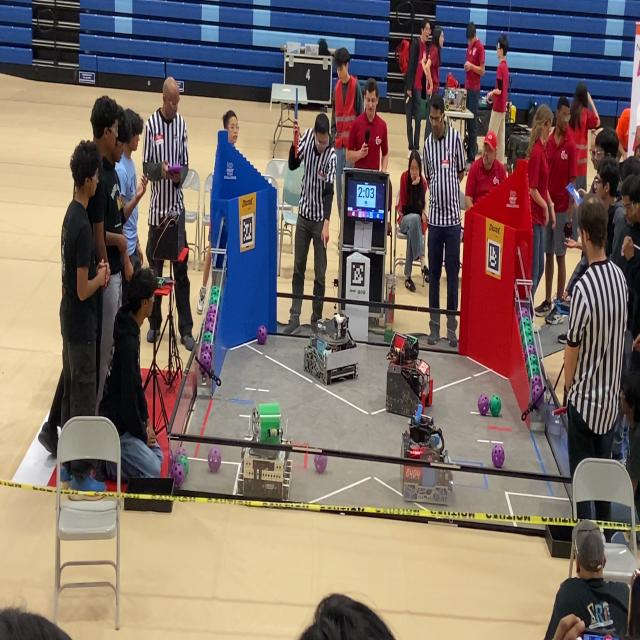artifact_green: (170, 445, 186, 468), (170, 463, 185, 487), (490, 394, 502, 417), (176, 455, 189, 476), (527, 355, 539, 377), (478, 394, 489, 415), (527, 355, 539, 368), (210, 286, 219, 303), (206, 304, 216, 319), (523, 335, 533, 350), (523, 336, 533, 351), (521, 326, 533, 338), (521, 332, 529, 349), (527, 364, 536, 379), (528, 366, 540, 377), (525, 345, 536, 357), (202, 332, 213, 343), (525, 327, 535, 339), (521, 329, 533, 339), (520, 318, 531, 328), (210, 292, 219, 304), (532, 363, 541, 375), (521, 333, 528, 348), (526, 364, 533, 379), (524, 340, 532, 353), (525, 329, 533, 342), (207, 303, 216, 314), (523, 341, 532, 352), (521, 336, 527, 352), (211, 285, 220, 295), (519, 317, 530, 325), (523, 326, 533, 334), (519, 322, 525, 335), (520, 326, 525, 339), (527, 336, 534, 345), (209, 297, 216, 306), (522, 341, 527, 353), (210, 291, 215, 303), (209, 295, 215, 305), (213, 295, 219, 304), (212, 286, 219, 293), (210, 291, 213, 299)
artifact_purple: (530, 375, 543, 409), (169, 445, 186, 470), (207, 446, 222, 473), (171, 463, 185, 487), (530, 375, 543, 398), (492, 445, 504, 468), (314, 454, 327, 474), (200, 352, 211, 375), (478, 394, 489, 415), (534, 387, 544, 410), (257, 326, 267, 345), (518, 307, 530, 322), (169, 450, 176, 474), (174, 445, 186, 459), (526, 344, 536, 359), (205, 317, 214, 333), (205, 314, 216, 325), (201, 343, 212, 353), (207, 306, 216, 317), (207, 304, 216, 314)
